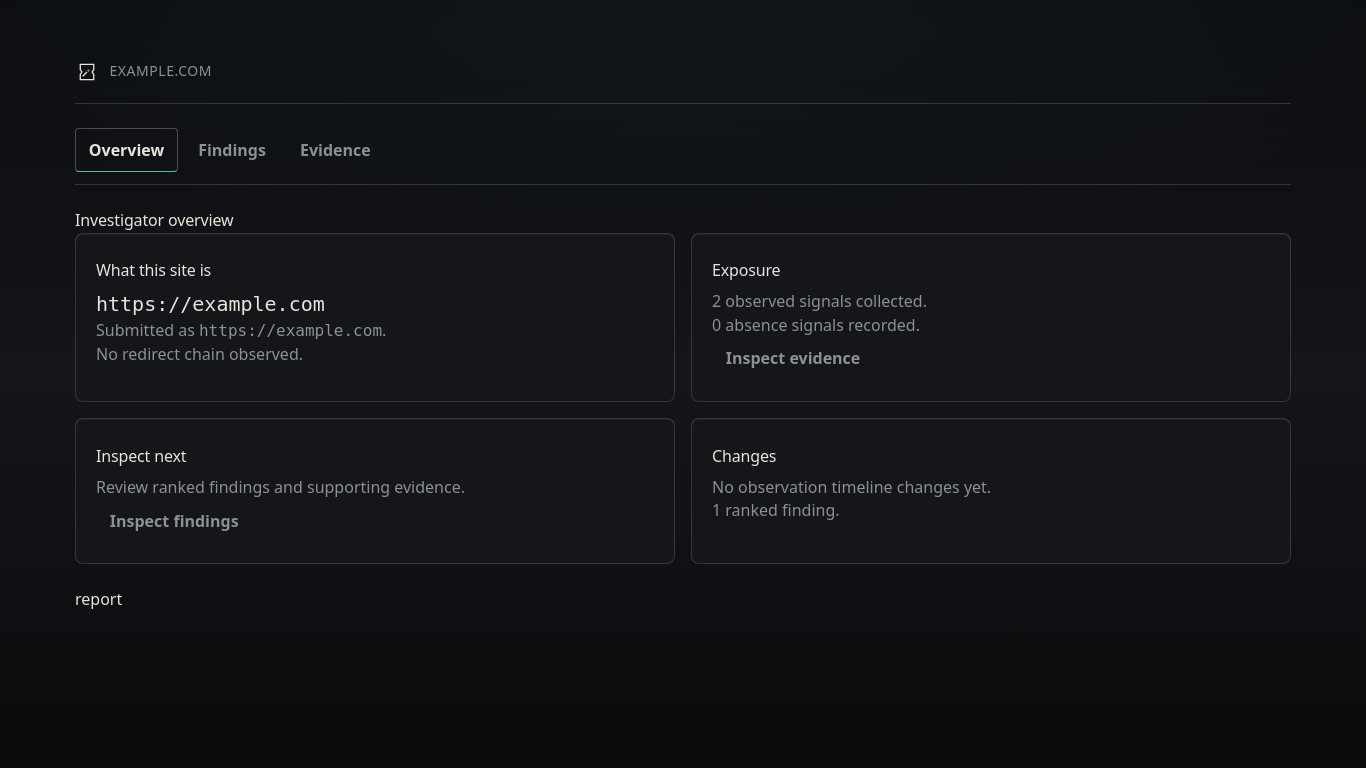
Test: InvestigatorShell › targets evidence selected by finding instead of showing all evidence
What coordinates should you click on to do the following:
click the button "Findings"
I would click on:
 (232, 150)
Its box is [184, 128, 280, 172].
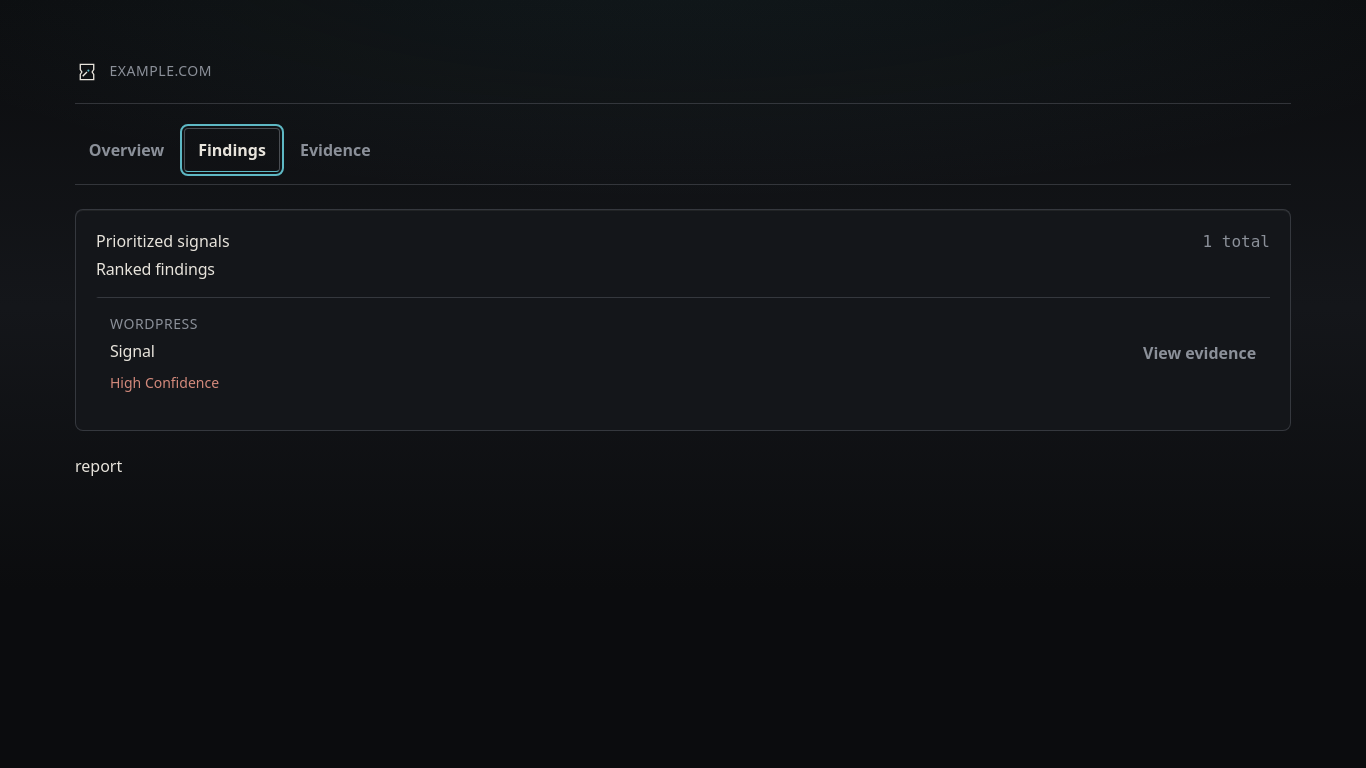
What coordinates should you click on to do the following:
click the button "View evidence"
I would click on:
 (1200, 354)
Its box is [1129, 332, 1270, 376].
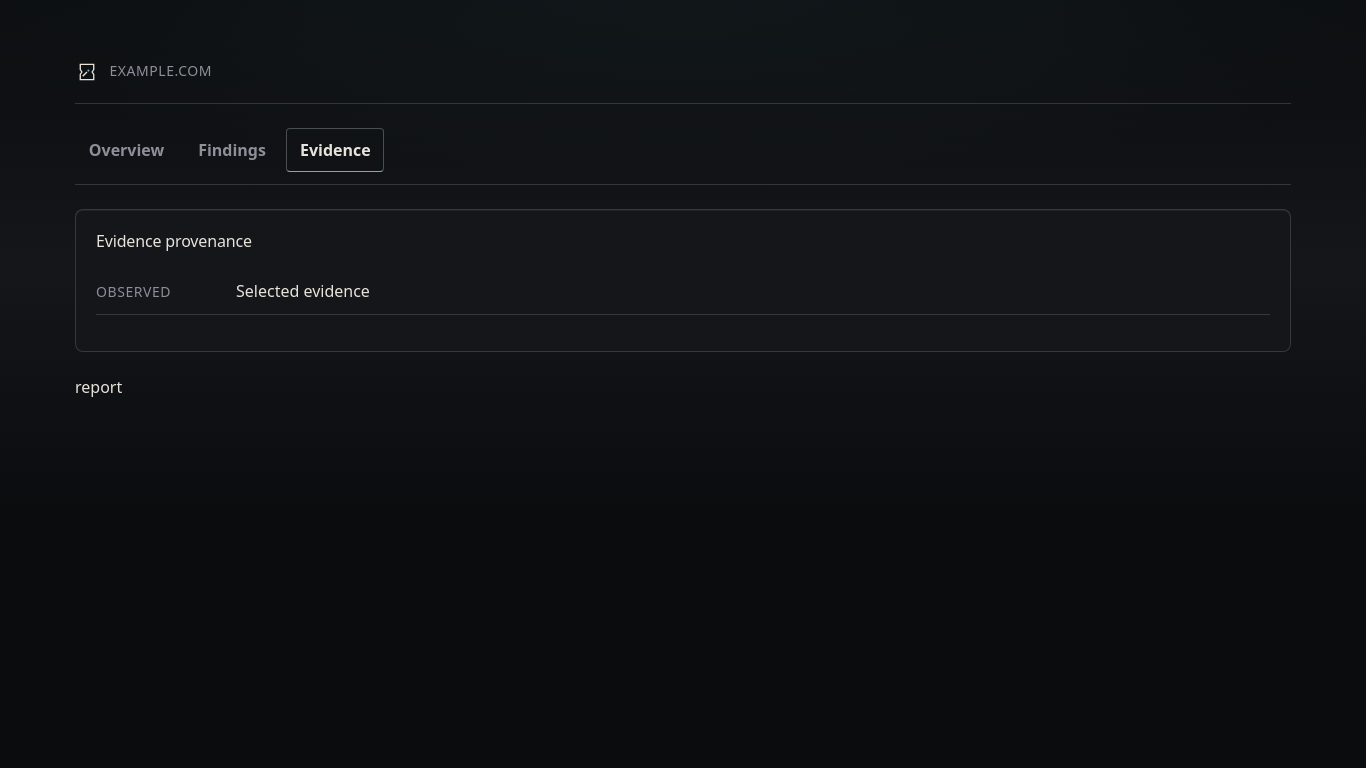
Expected: the text "Selected evidence" is shown, [236, 280, 370, 303]
